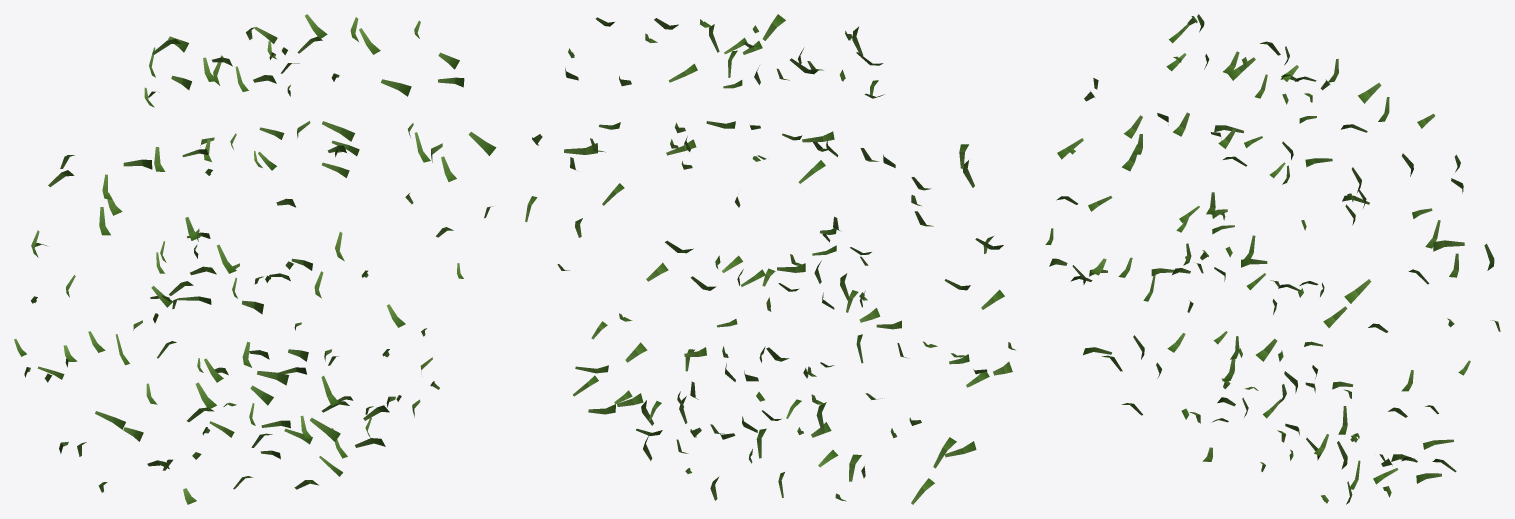
Rendered from Grass_Tile_SheepMeadow.glb.
The picture shows the model from 3 angles, left to right: view 1: azimuth 30°, elevation 25°; view 2: azimuth 150°, elevation 25°; view 3: azimuth 330°, elevation 25°; orthographic projection. The views are drawn at different scales.
Visible parts, largest first — view 1: Grass_Tile_SheepMeadow; view 2: Grass_Tile_SheepMeadow; view 3: Grass_Tile_SheepMeadow.
Part boxes in pixels (<box>): Grass_Tile_SheepMeadow: <box>14,14,496,504</box>; Grass_Tile_SheepMeadow: <box>525,14,1015,504</box>; Grass_Tile_SheepMeadow: <box>1045,14,1500,504</box>.
Bounding box in the file's own units: 1.67 × 1.64 × 0.0749.
